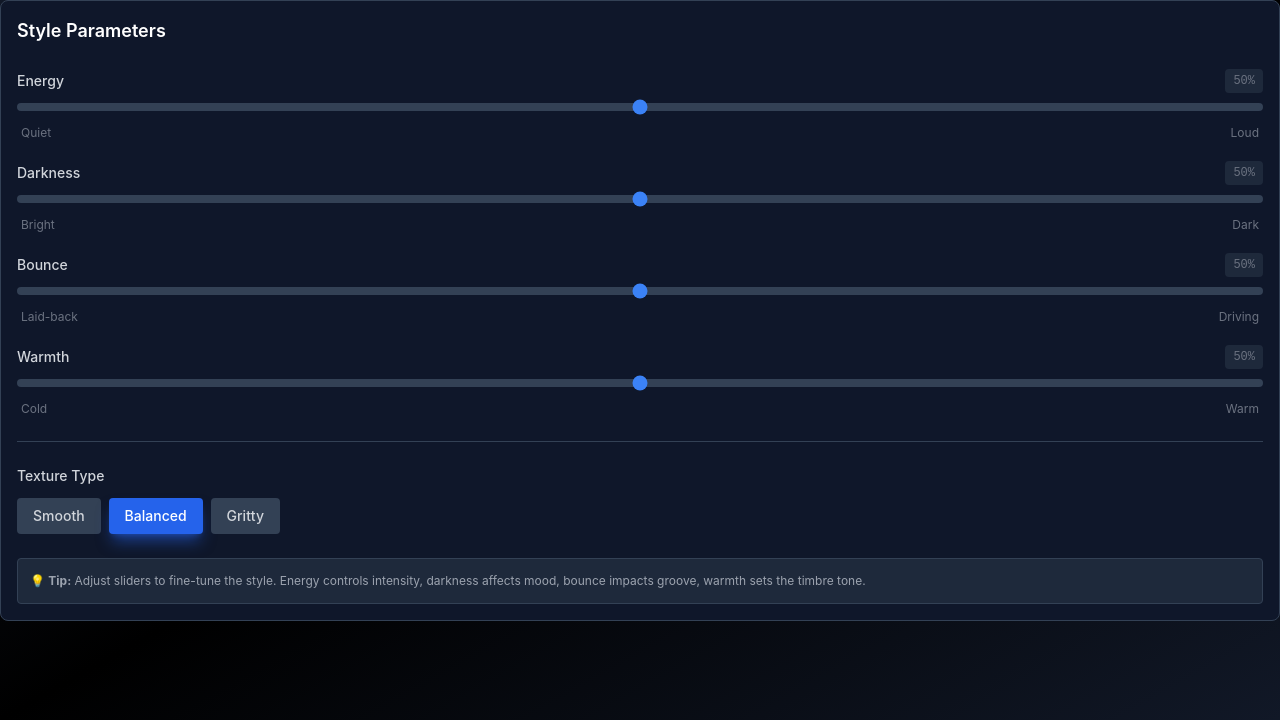
Test: StyleSliders – slider interactions › updates percentage display when slider changes
Set the slider named "Energy" to "0.75" at (948, 107), box [17, 103, 1263, 111]
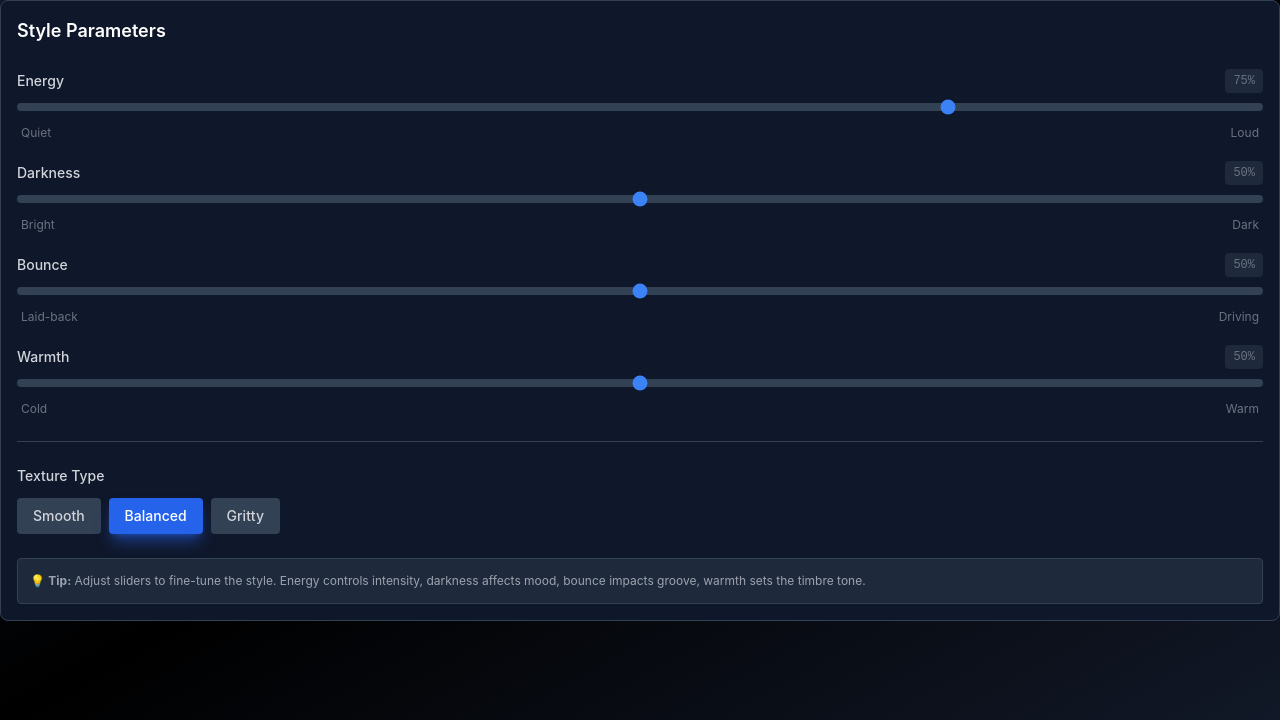
Result: the text "75%" is shown at [1225, 69, 1263, 93]
